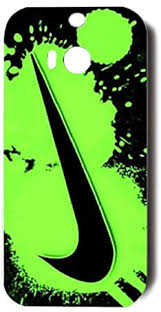nike: (21, 44, 122, 297)
